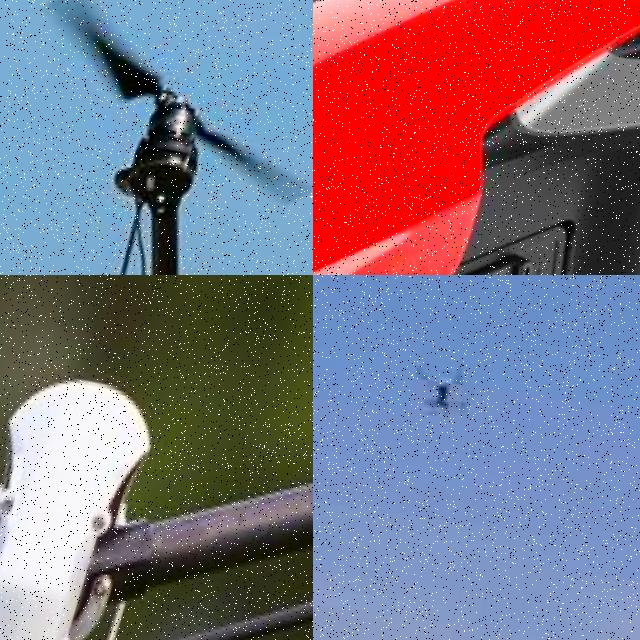drone: (0, 275, 313, 640), (313, 0, 640, 275), (0, 0, 313, 275)
